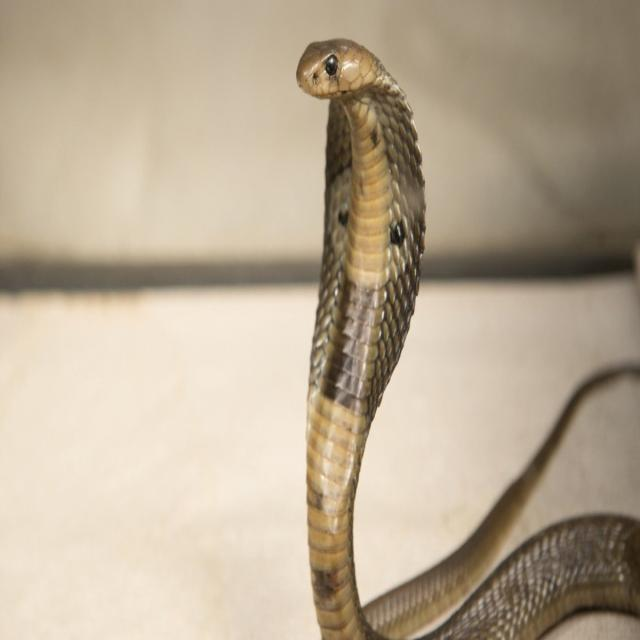Snake: (290, 26, 640, 640)
